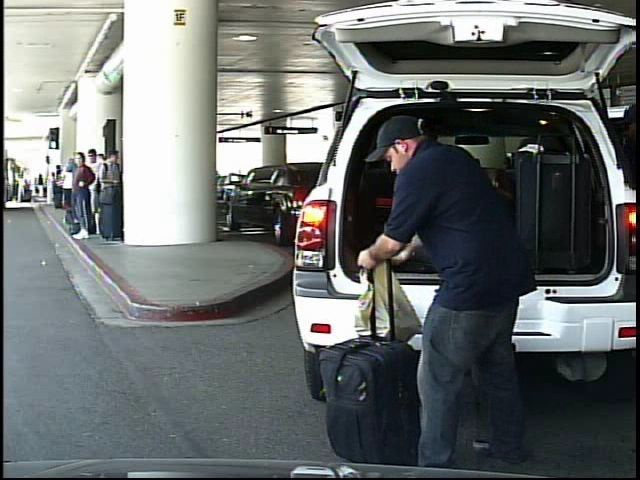person: (361, 108, 541, 473), (17, 174, 28, 205), (35, 172, 46, 201)
